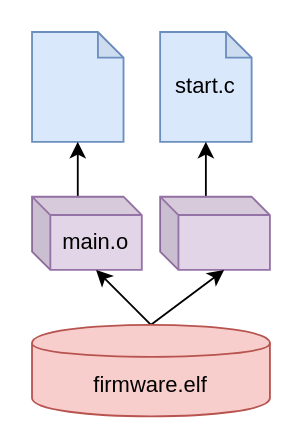
The diagram is 302 pixels wide and 448 high, and some of its shapes have lost their labels. Each missing label, with the centre of its shape:
"main.c" goes at (77,86).
"start.o" goes at (214,232).
